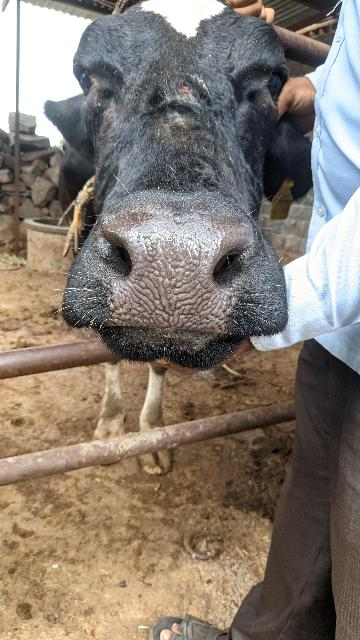Muzzle: (90, 202, 236, 328)
